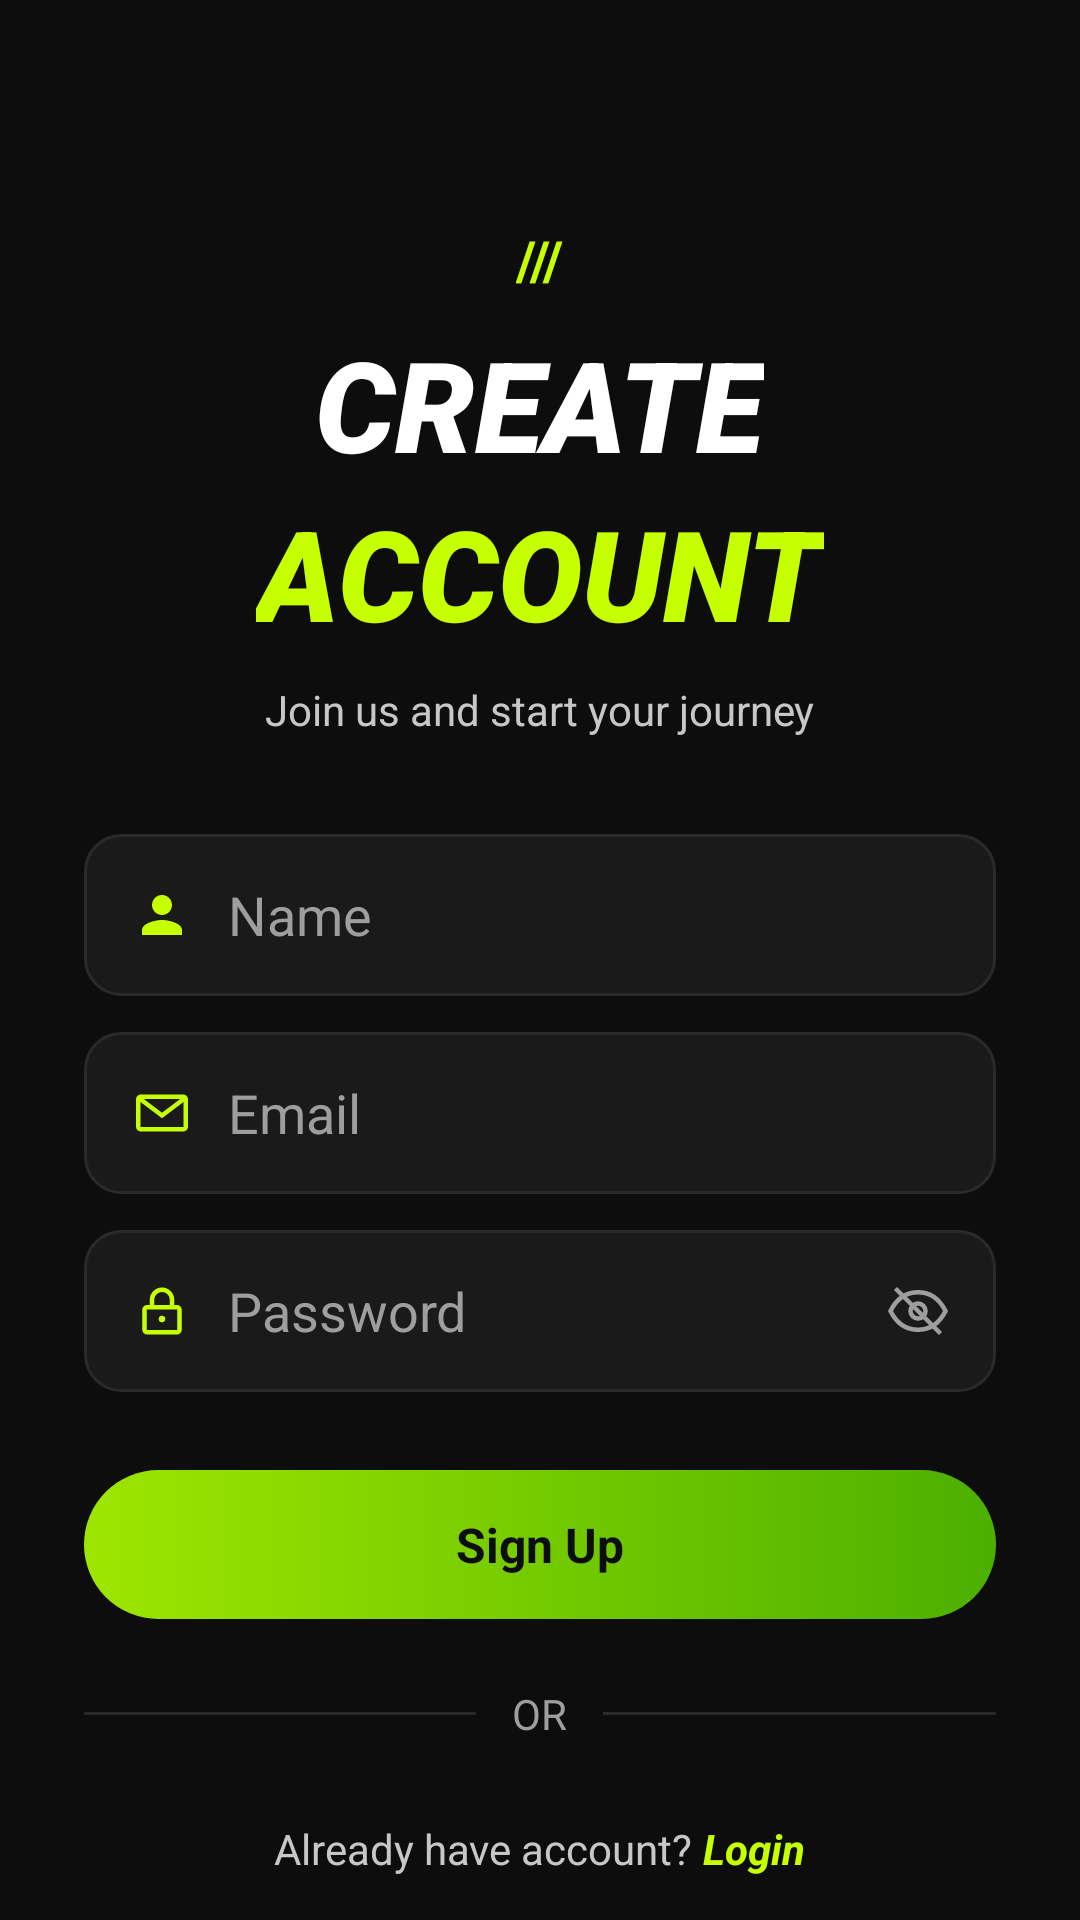

Screen size 1080px×1920px. Icon name, then its center in pixels as [x,y]:
eye off: [918,1311]
lock: [162,1311]
profile: [162,915]
